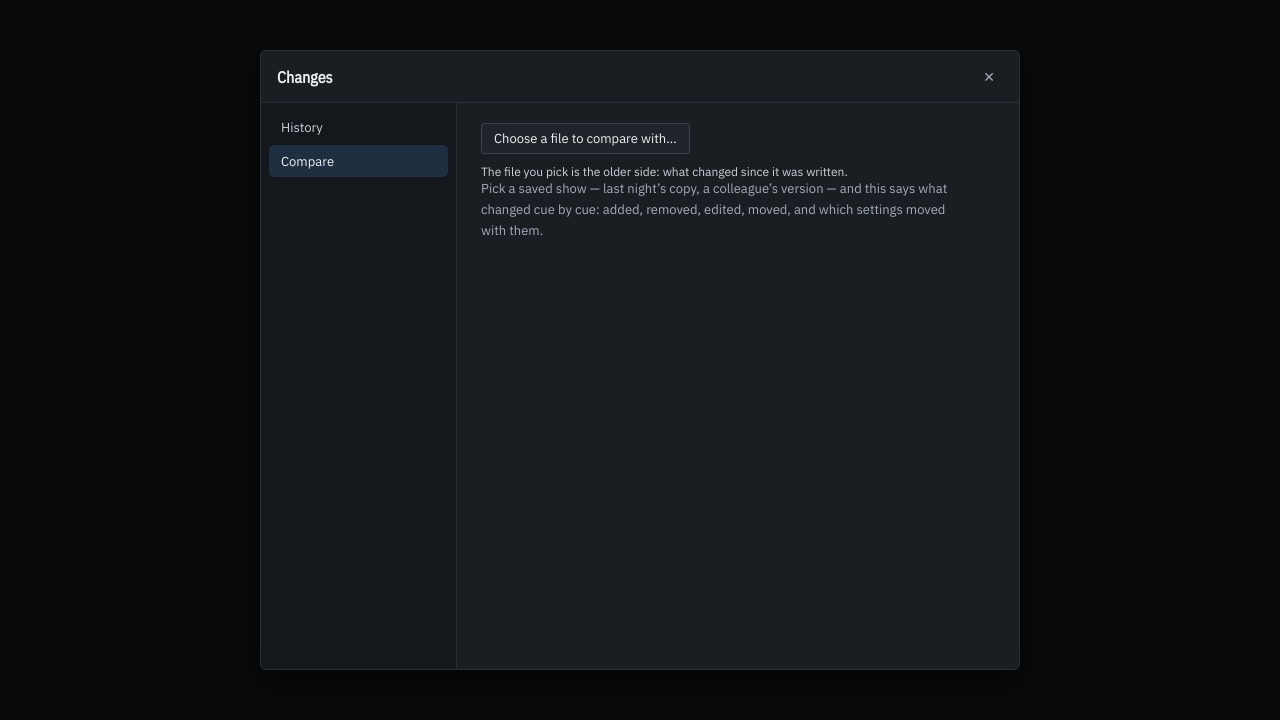
Test: comparing with another file › asks for a comparison with the show as it stands, and draws the answer
Step 1. Click the button with class "changes-choose" → [585, 138], box [481,123,690,154]
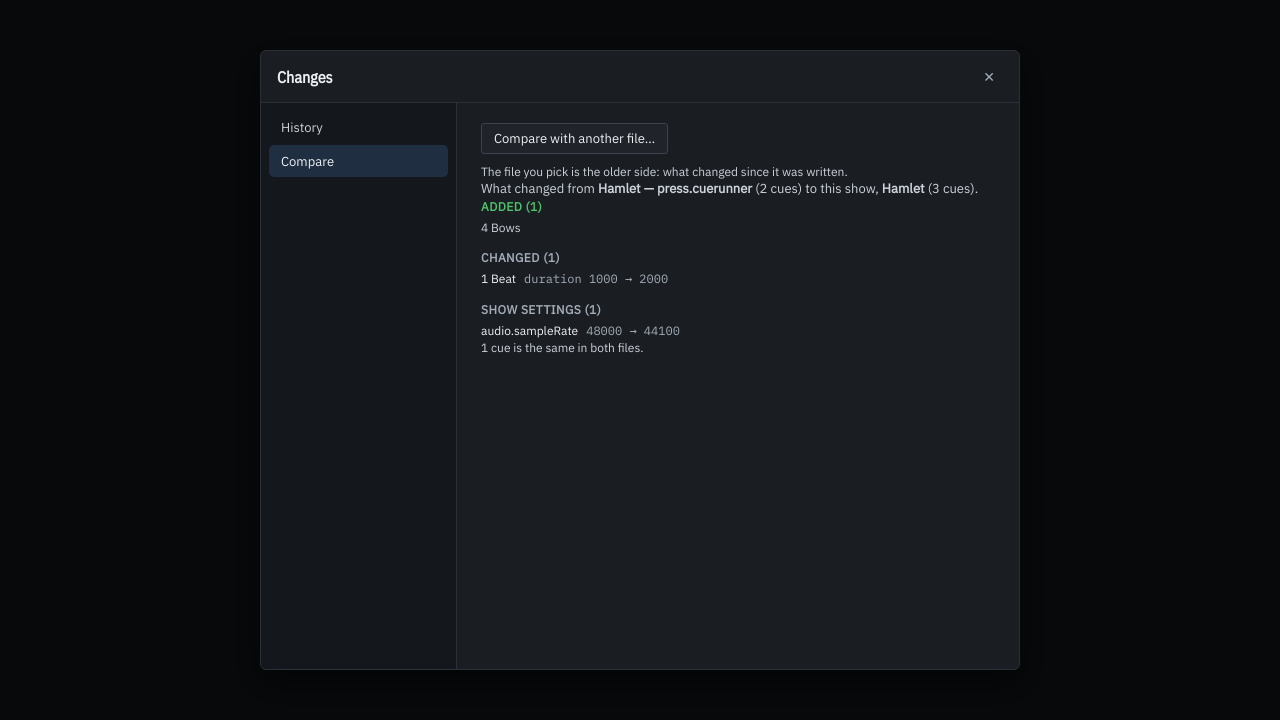
Expected: the list item with class "changes-line" reads "4 Bows", [481,220,521,234]
Expected: the text with class "changes-field" reads "duration 1000 → 2000", [524,271,668,286]
Expected: the text with class "changes-field" reads "48000 → 44100", [586,323,680,340]
